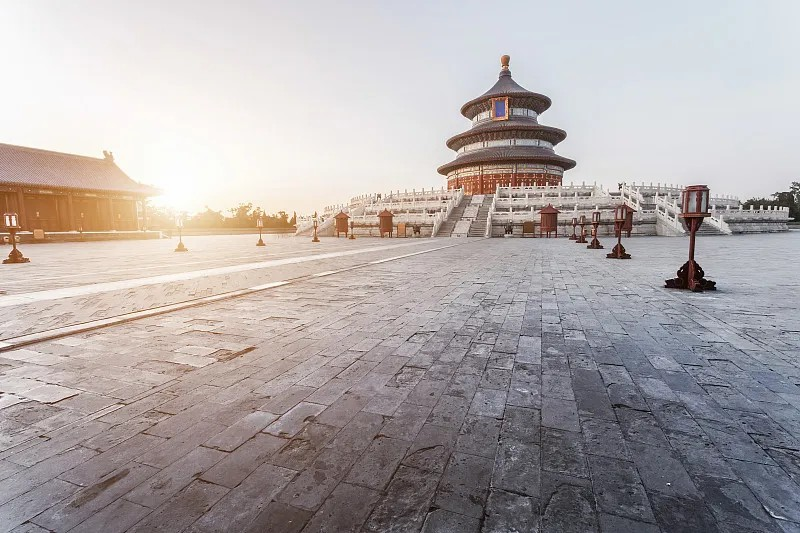Heaven: (438, 56, 577, 193)
